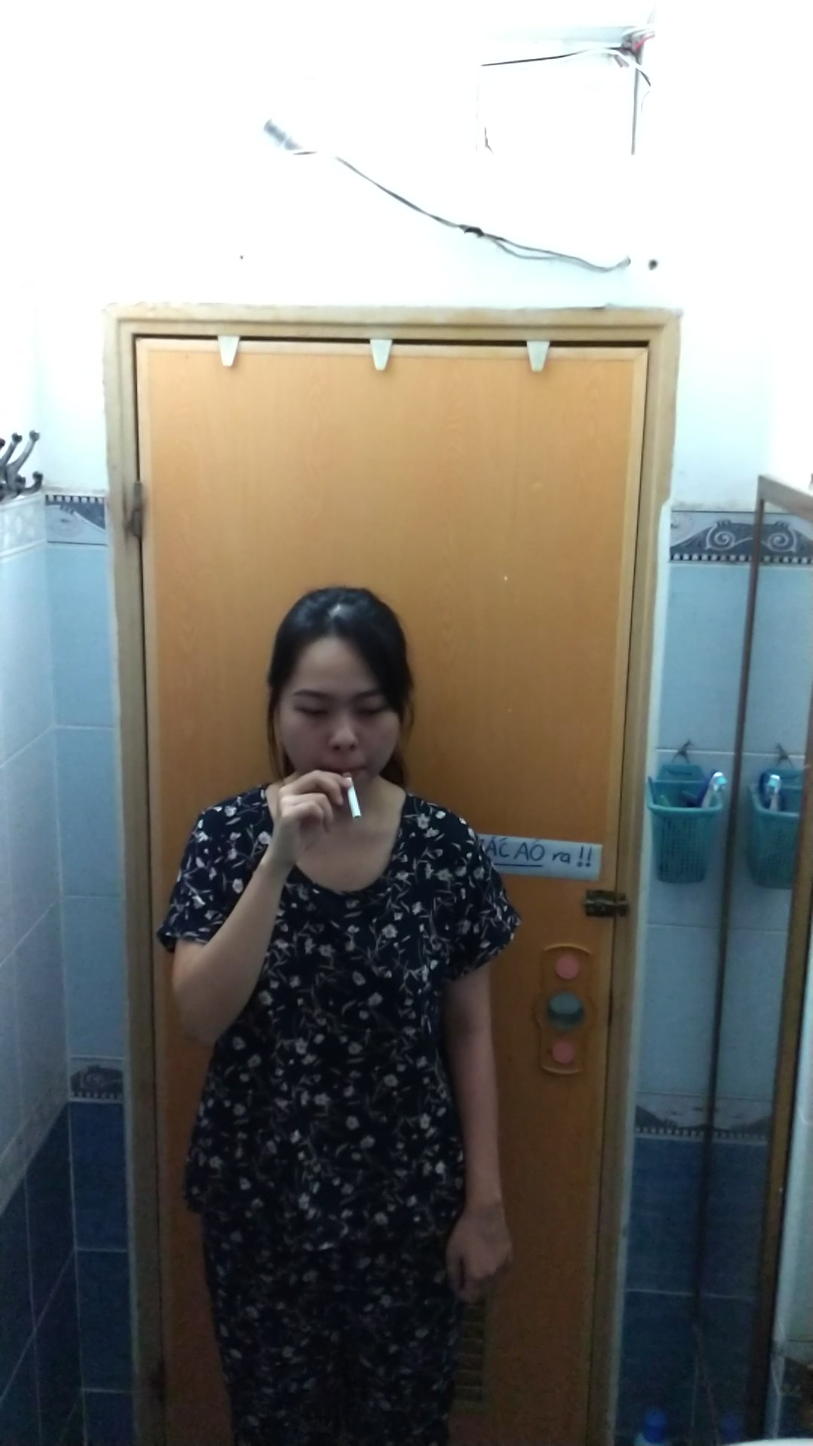cigarette: (340, 787, 367, 824)
person: (153, 563, 537, 1446)
